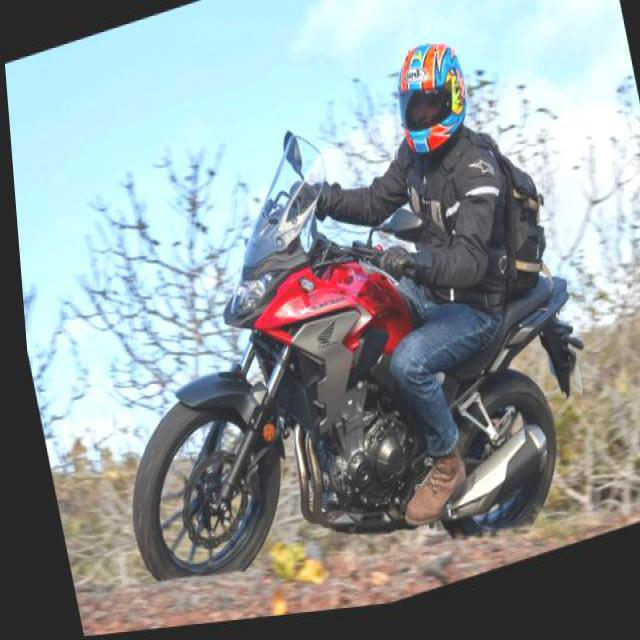CB500X: (56, 61, 608, 634)
